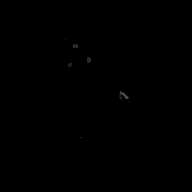v: (64, 42, 90, 67)
